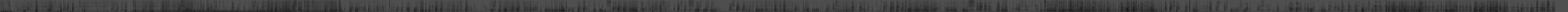Moan: (516, 0, 519, 12), (1489, 0, 1492, 12), (36, 0, 38, 12), (72, 0, 74, 12), (890, 0, 892, 12), (186, 0, 187, 12)
